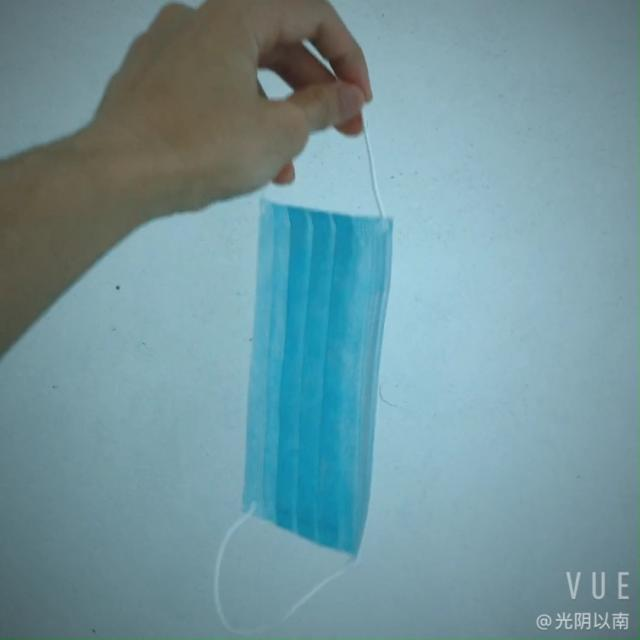non-organic waste: (228, 190, 406, 554)
